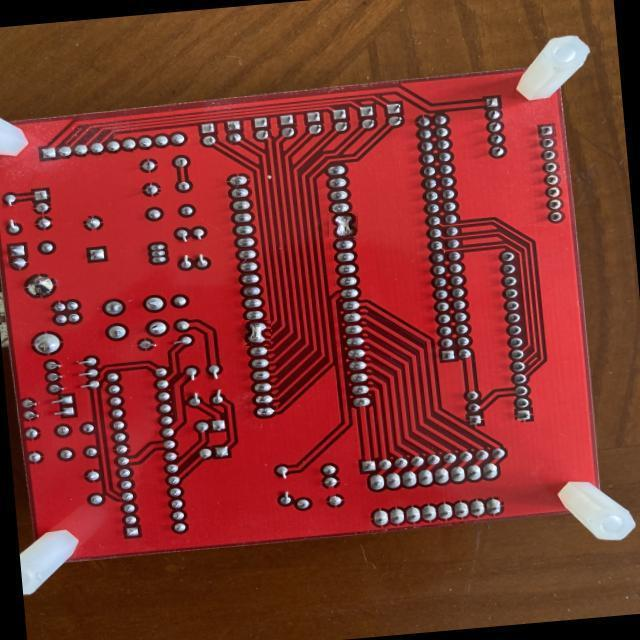damged: (328, 212, 358, 239), (242, 320, 271, 346)
